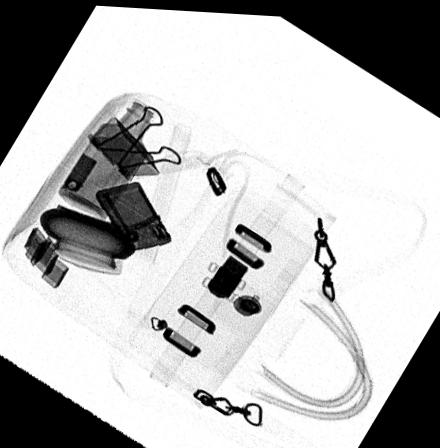Lighter: (93, 179, 171, 250)
